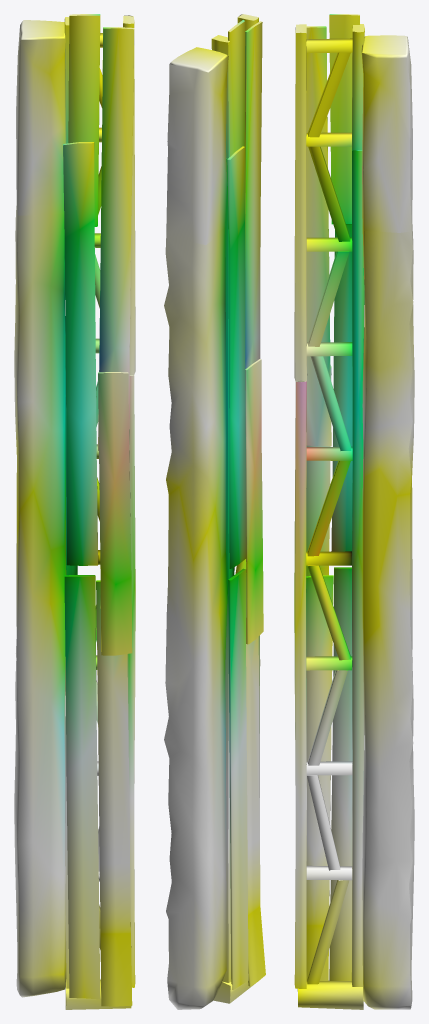
The model's file is SM_MillColumnWall_01a.FBX.
3 renders of one model, left to right at view 1: azimuth 90°, elevation 25°; view 2: azimuth 150°, elevation 25°; view 3: azimuth 270°, elevation 25°, orthographic. The views are drawn at different scales.
Visible parts, largest first — view 1: SM_MillColumnWall_01a_LOD0; view 2: SM_MillColumnWall_01a_LOD0; view 3: SM_MillColumnWall_01a_LOD0.
Boxes of the visible parts, x1,y1,x2,y2 form: SM_MillColumnWall_01a_LOD0: [14, 14, 135, 1009]; SM_MillColumnWall_01a_LOD0: [164, 14, 265, 1009]; SM_MillColumnWall_01a_LOD0: [294, 14, 414, 1009].
Size of what is drawn, in the model's own units: 46.16 by 104 by 943.
